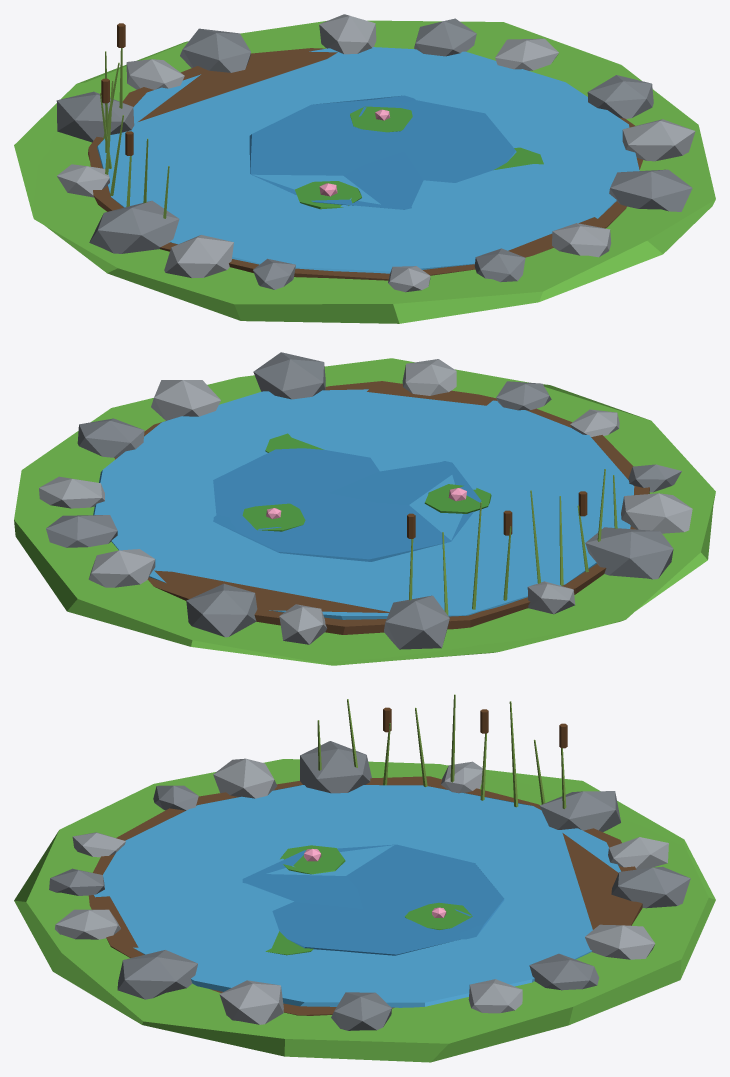
File: prop_pond_v01.glb
3 renders of one model, top to bottom at view 1: azimuth 30°, elevation 25°; view 2: azimuth 150°, elevation 25°; view 3: azimuth 270°, elevation 25°, orthographic. The views are drawn at different scales.
Parts seen in each view (by area): view 1: prop_pond_v01; view 2: prop_pond_v01; view 3: prop_pond_v01.
Part boxes in pixels (<box>): prop_pond_v01: <box>14,14,715,323</box>; prop_pond_v01: <box>14,352,715,665</box>; prop_pond_v01: <box>14,694,715,1062</box>.
Size of the model in its own units: 8.17 by 1.64 by 8.32.
